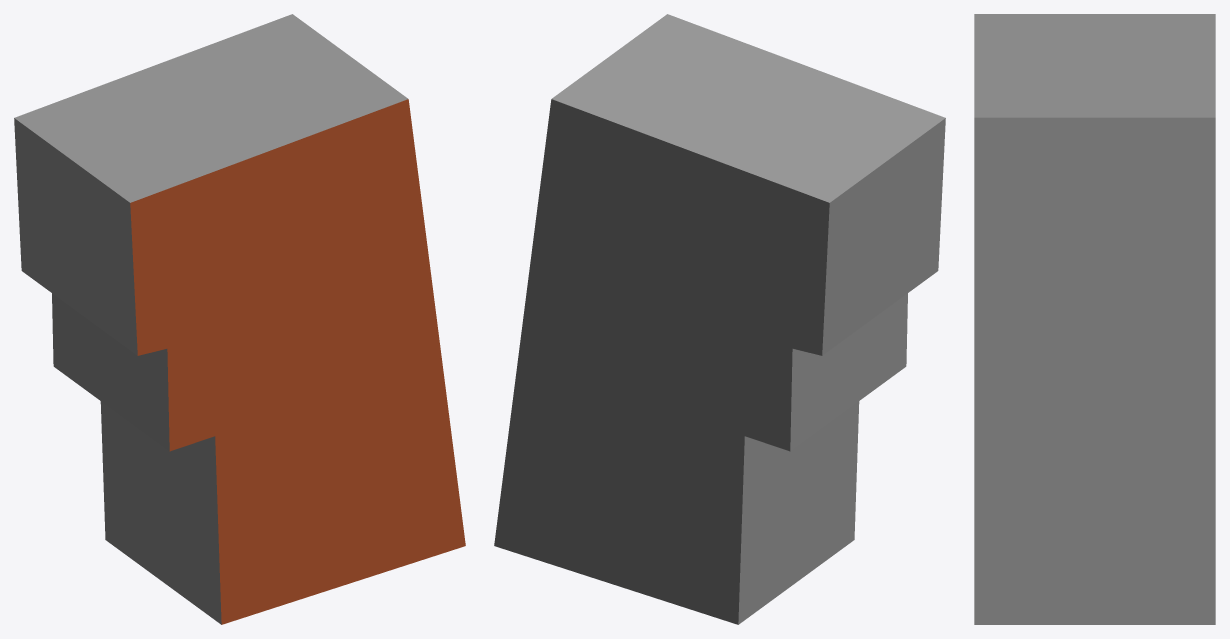
The model's file is construction_4457_assumed_A_Casa_h6m.obj.
3 renders of one model, left to right at view 1: azimuth 30°, elevation 25°; view 2: azimuth 150°, elevation 25°; view 3: azimuth 270°, elevation 25°, orthographic. The views are drawn at different scales.
Visible parts, largest first — view 1: construction_4457_assumed_A_Casa; view 2: construction_4457_assumed_A_Casa; view 3: construction_4457_assumed_A_Casa.
Boxes of the visible parts, left/top/right/bottom form: construction_4457_assumed_A_Casa: left=14, top=14, right=465, bottom=624; construction_4457_assumed_A_Casa: left=494, top=14, right=945, bottom=624; construction_4457_assumed_A_Casa: left=974, top=14, right=1215, bottom=624.
Bounding box in the file's own units: 10.01 × 13.69 × 6.
